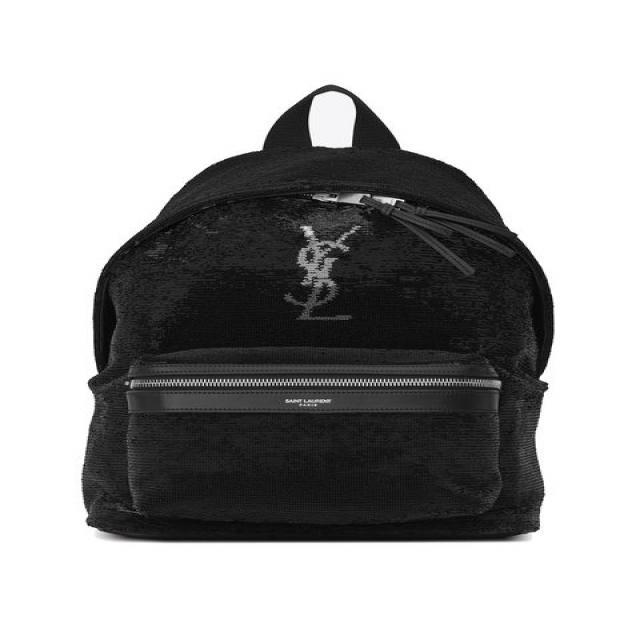Backpacks: (78, 145, 564, 550)
